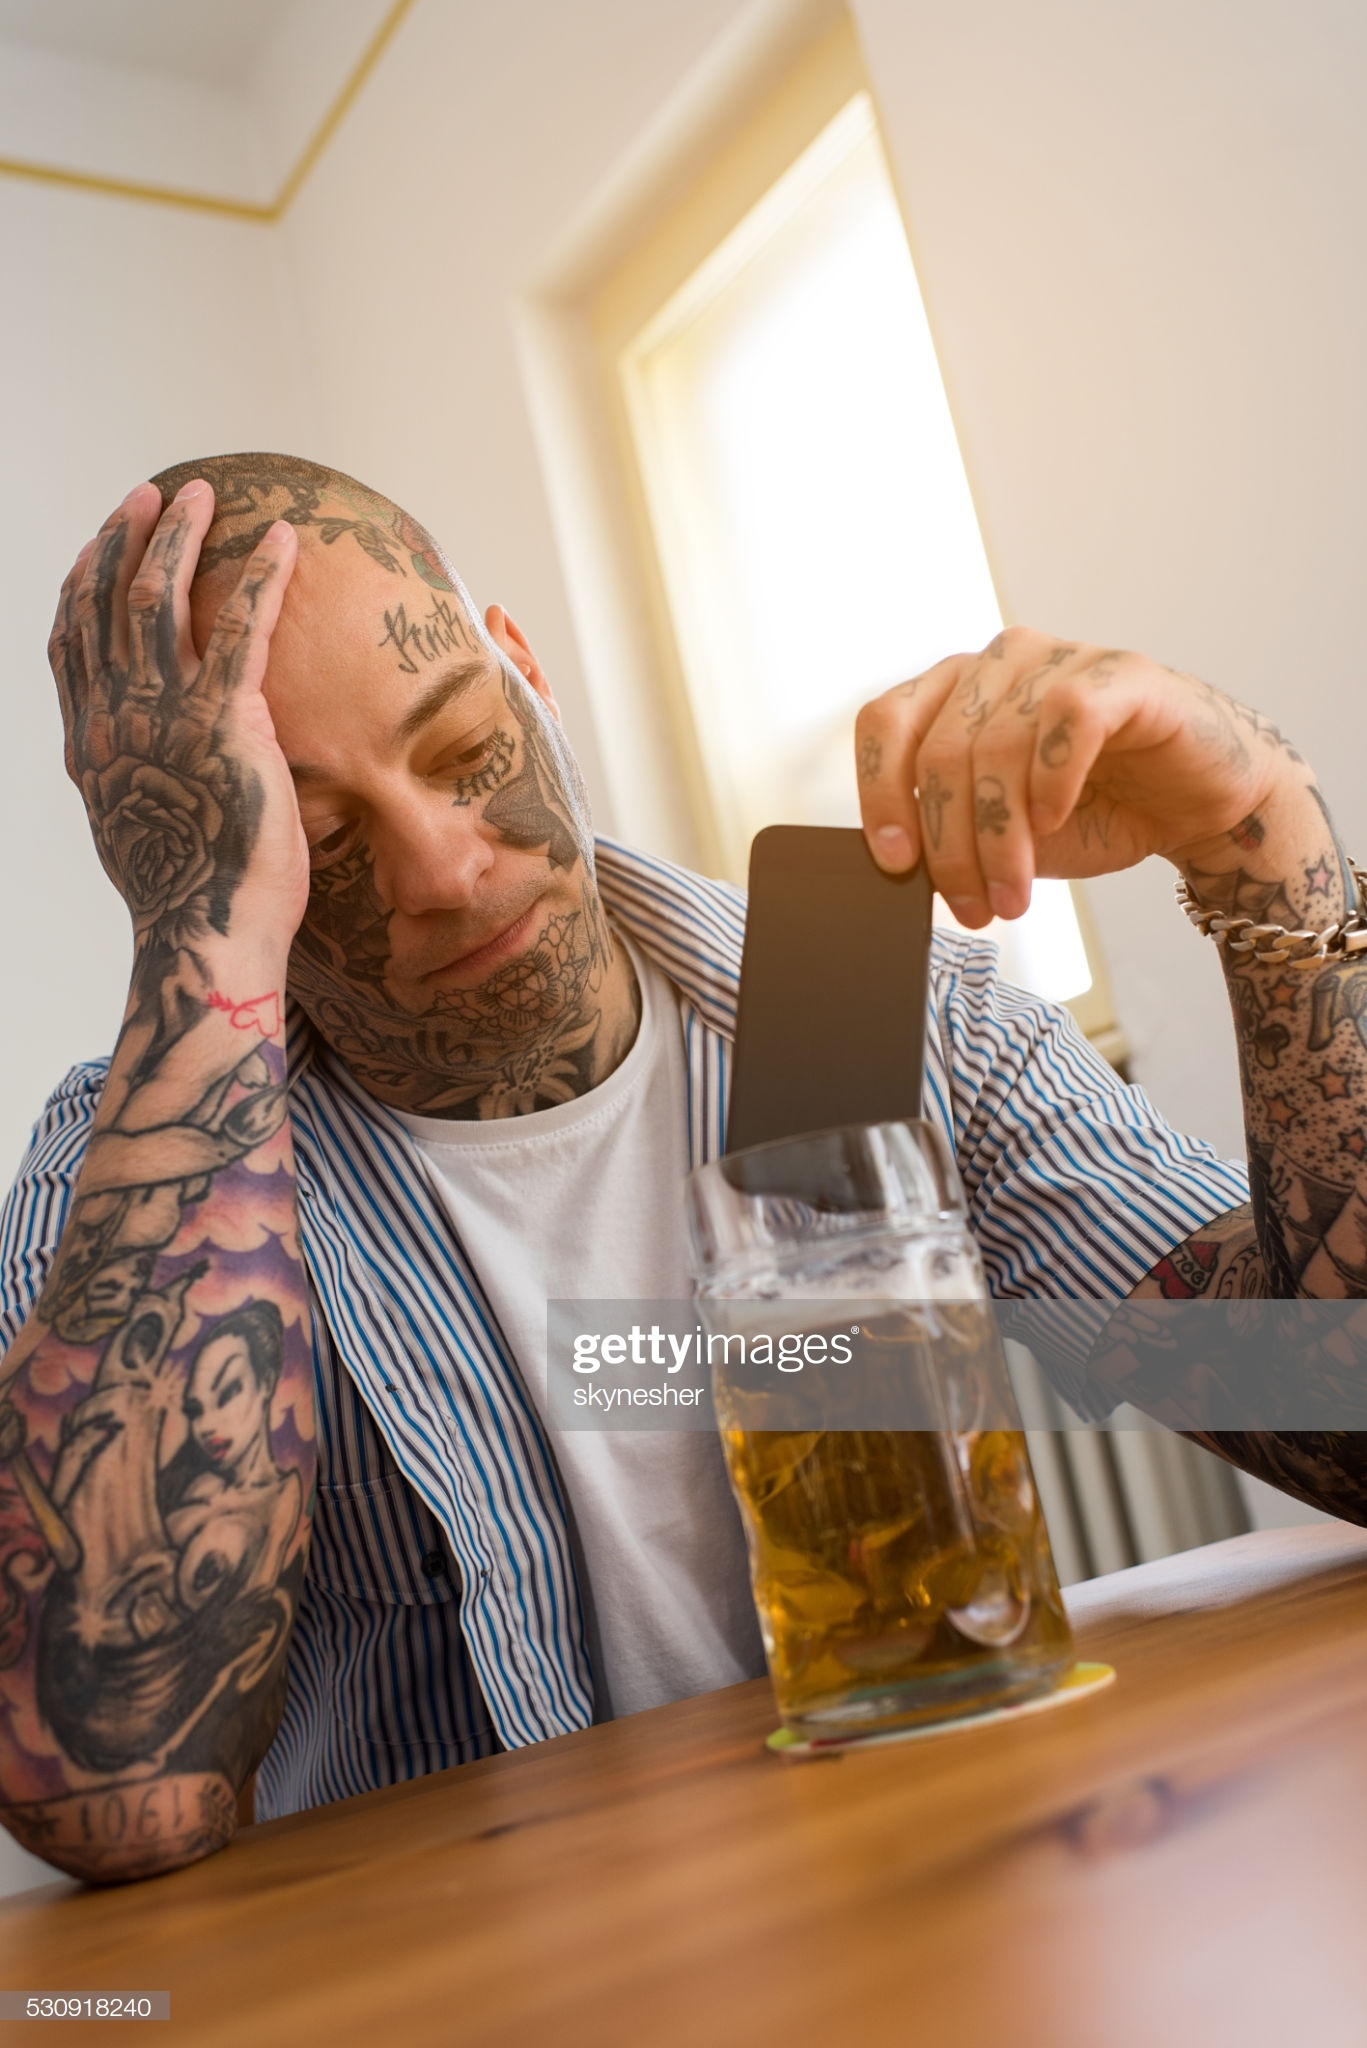glassBeer: (668, 1109, 1062, 1717)
